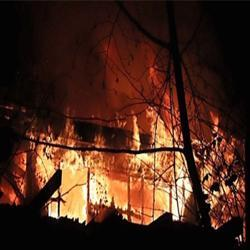smoke: (38, 148, 87, 213), (136, 153, 189, 211)
